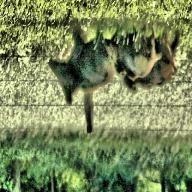boar: (40, 29, 115, 110), (123, 40, 182, 96), (107, 33, 159, 81)
